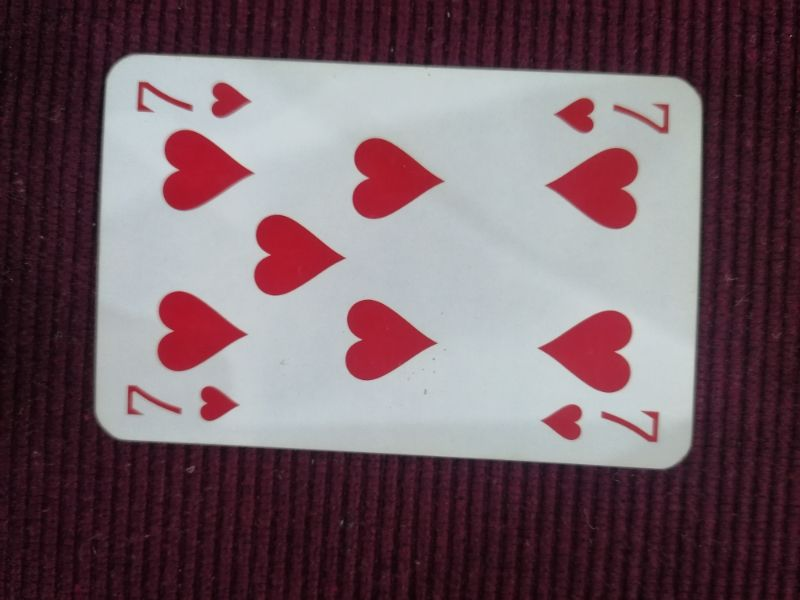7h: (130, 73, 259, 126), (546, 91, 677, 142), (538, 401, 664, 451), (120, 379, 245, 429)
